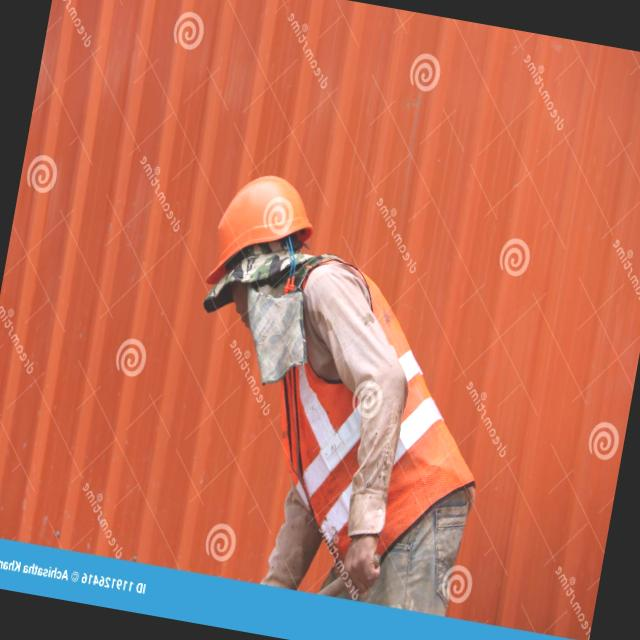helmet: (200, 158, 329, 303)
vest: (242, 245, 510, 596)
